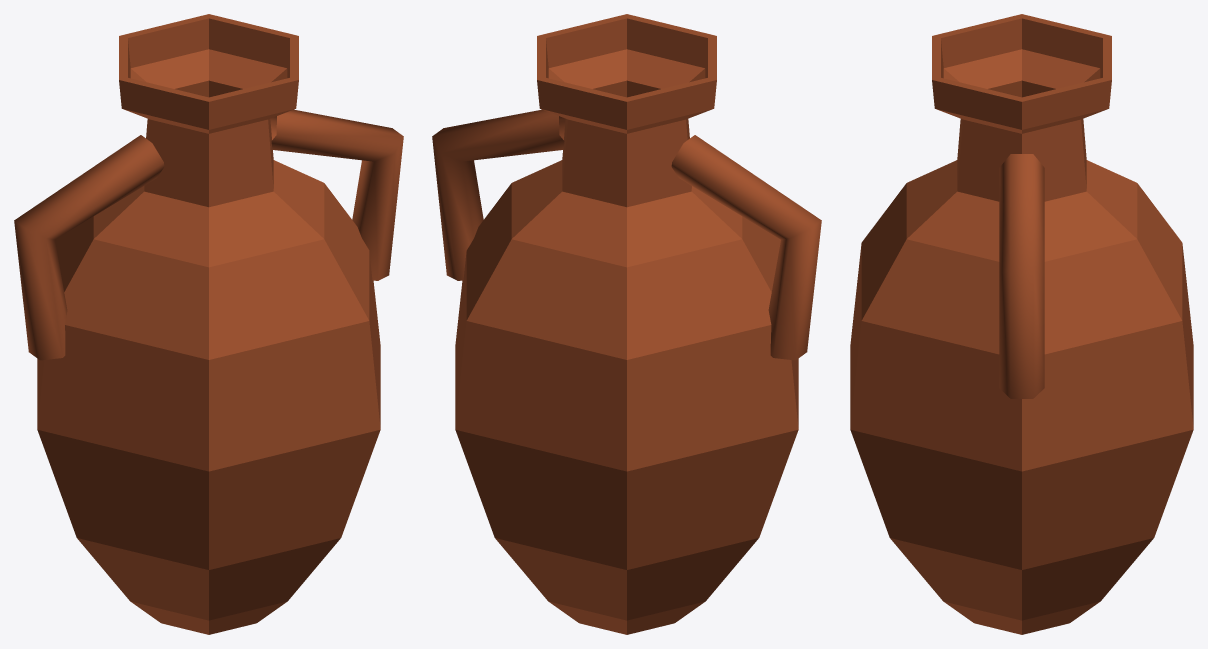
File: amphora_destructible_fractured.glb
3 renders of one model, left to right at view 1: azimuth 30°, elevation 25°; view 2: azimuth 150°, elevation 25°; view 3: azimuth 270°, elevation 25°, orthographic.
Parts seen in each view (by area): view 1: AmphoraShard-rigid.004, AmphoraShard-rigid.003, AmphoraShard-rigid.010, AmphoraShard-rigid.009, AmphoraHandleFragment-rigid, AmphoraHandleFragment-rigid.001, AmphoraShard-rigid.006, AmphoraShard-rigid.007, AmphoraShard-rigid.005, AmphoraShard-rigid.011, AmphoraShard-rigid.002, AmphoraShard-rigid.008; view 2: AmphoraShard-rigid.001, AmphoraShard-rigid.002, AmphoraShard-rigid.007, AmphoraShard-rigid.008, AmphoraHandleFragment-rigid, AmphoraHandleFragment-rigid.001, AmphoraShard-rigid.010, AmphoraShard-rigid.011, AmphoraShard-rigid, AmphoraShard-rigid.006, AmphoraShard-rigid.003, AmphoraShard-rigid.009; view 3: AmphoraShard-rigid, AmphoraShard-rigid.005, AmphoraHandleFragment-rigid.001, AmphoraShard-rigid.006, AmphoraShard-rigid.011, AmphoraShard-rigid.008, AmphoraShard-rigid.009, AmphoraShard-rigid.001, AmphoraShard-rigid.004, AmphoraShard-rigid.007, AmphoraShard-rigid.010.
Boxes of the visible parts, x1,y1,x2,y2 form: AmphoraShard-rigid.004: [209, 239, 380, 634]; AmphoraShard-rigid.003: [37, 239, 208, 634]; AmphoraShard-rigid.010: [209, 78, 323, 267]; AmphoraShard-rigid.009: [94, 78, 208, 267]; AmphoraHandleFragment-rigid: [14, 135, 164, 360]; AmphoraHandleFragment-rigid.001: [270, 109, 403, 280]; AmphoraShard-rigid.006: [209, 14, 297, 97]; AmphoraShard-rigid.007: [120, 14, 208, 97]; AmphoraShard-rigid.005: [324, 183, 380, 427]; AmphoraShard-rigid.011: [268, 36, 324, 238]; AmphoraShard-rigid.002: [37, 216, 93, 427]; AmphoraShard-rigid.008: [93, 36, 149, 238]; AmphoraShard-rigid.001: [455, 239, 626, 634]; AmphoraShard-rigid.002: [627, 239, 798, 634]; AmphoraShard-rigid.007: [512, 78, 626, 267]; AmphoraShard-rigid.008: [627, 78, 741, 267]; AmphoraHandleFragment-rigid: [671, 135, 821, 360]; AmphoraHandleFragment-rigid.001: [432, 109, 565, 280]; AmphoraShard-rigid.010: [627, 14, 715, 97]; AmphoraShard-rigid.011: [538, 14, 626, 97]; AmphoraShard-rigid: [455, 183, 511, 427]; AmphoraShard-rigid.006: [511, 36, 567, 238]; AmphoraShard-rigid.003: [742, 216, 798, 427]; AmphoraShard-rigid.009: [686, 36, 742, 238]; AmphoraShard-rigid: [1022, 239, 1193, 634]; AmphoraShard-rigid.005: [850, 239, 1021, 634]; AmphoraHandleFragment-rigid.001: [999, 154, 1044, 398]; AmphoraShard-rigid.006: [1022, 78, 1136, 261]; AmphoraShard-rigid.011: [907, 78, 1021, 261]; AmphoraShard-rigid.008: [1022, 14, 1110, 97]; AmphoraShard-rigid.009: [933, 14, 1021, 97]; AmphoraShard-rigid.001: [1137, 183, 1193, 427]; AmphoraShard-rigid.004: [850, 183, 906, 427]; AmphoraShard-rigid.007: [1081, 36, 1137, 238]; AmphoraShard-rigid.010: [906, 36, 962, 238].
Bounding box in the file's own units: 0.6722 × 0.94 × 0.5283.
